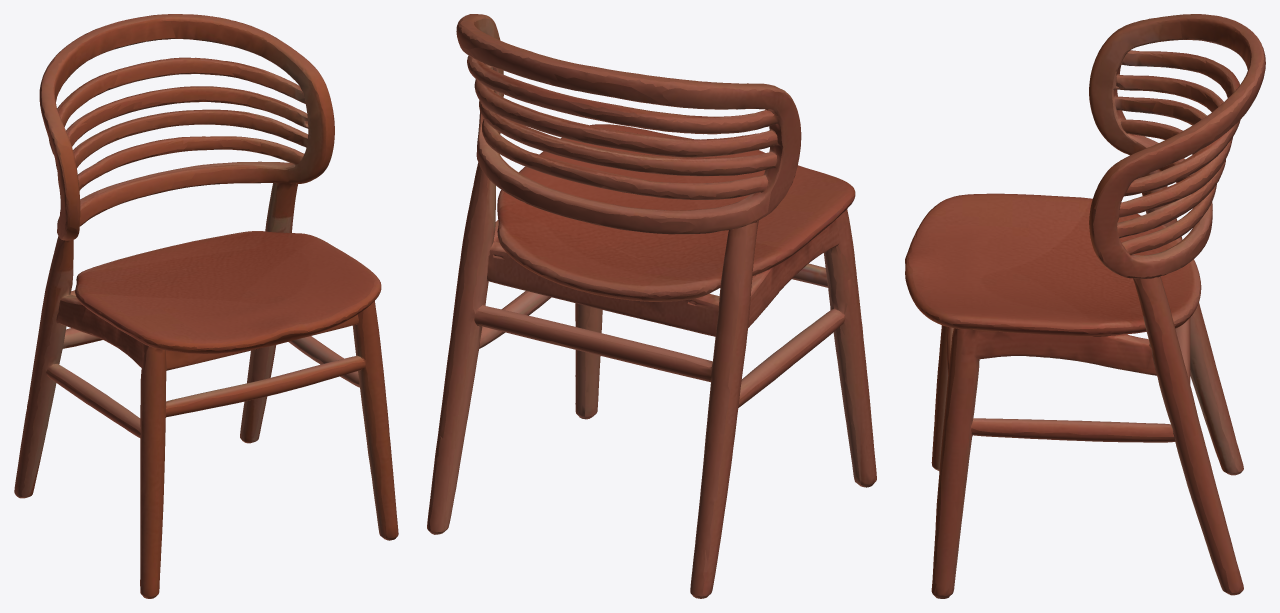
The model's file is L_DINING_CHAIR.industrial.glb.
The picture shows the model from 3 angles, left to right: view 1: azimuth 30°, elevation 25°; view 2: azimuth 150°, elevation 25°; view 3: azimuth 270°, elevation 25°; orthographic projection. The views are drawn at different scales.
Visible parts, largest first — view 1: geometry_0; view 2: geometry_0; view 3: geometry_0.
Part boxes in pixels (x1,y1,x2,y2): geometry_0: [14, 14, 398, 598]; geometry_0: [427, 14, 876, 598]; geometry_0: [905, 14, 1265, 598].
Bounding box in the file's own units: 0.5285 × 0.82 × 0.5611.
Materials: 1 (1 with a texture image).
